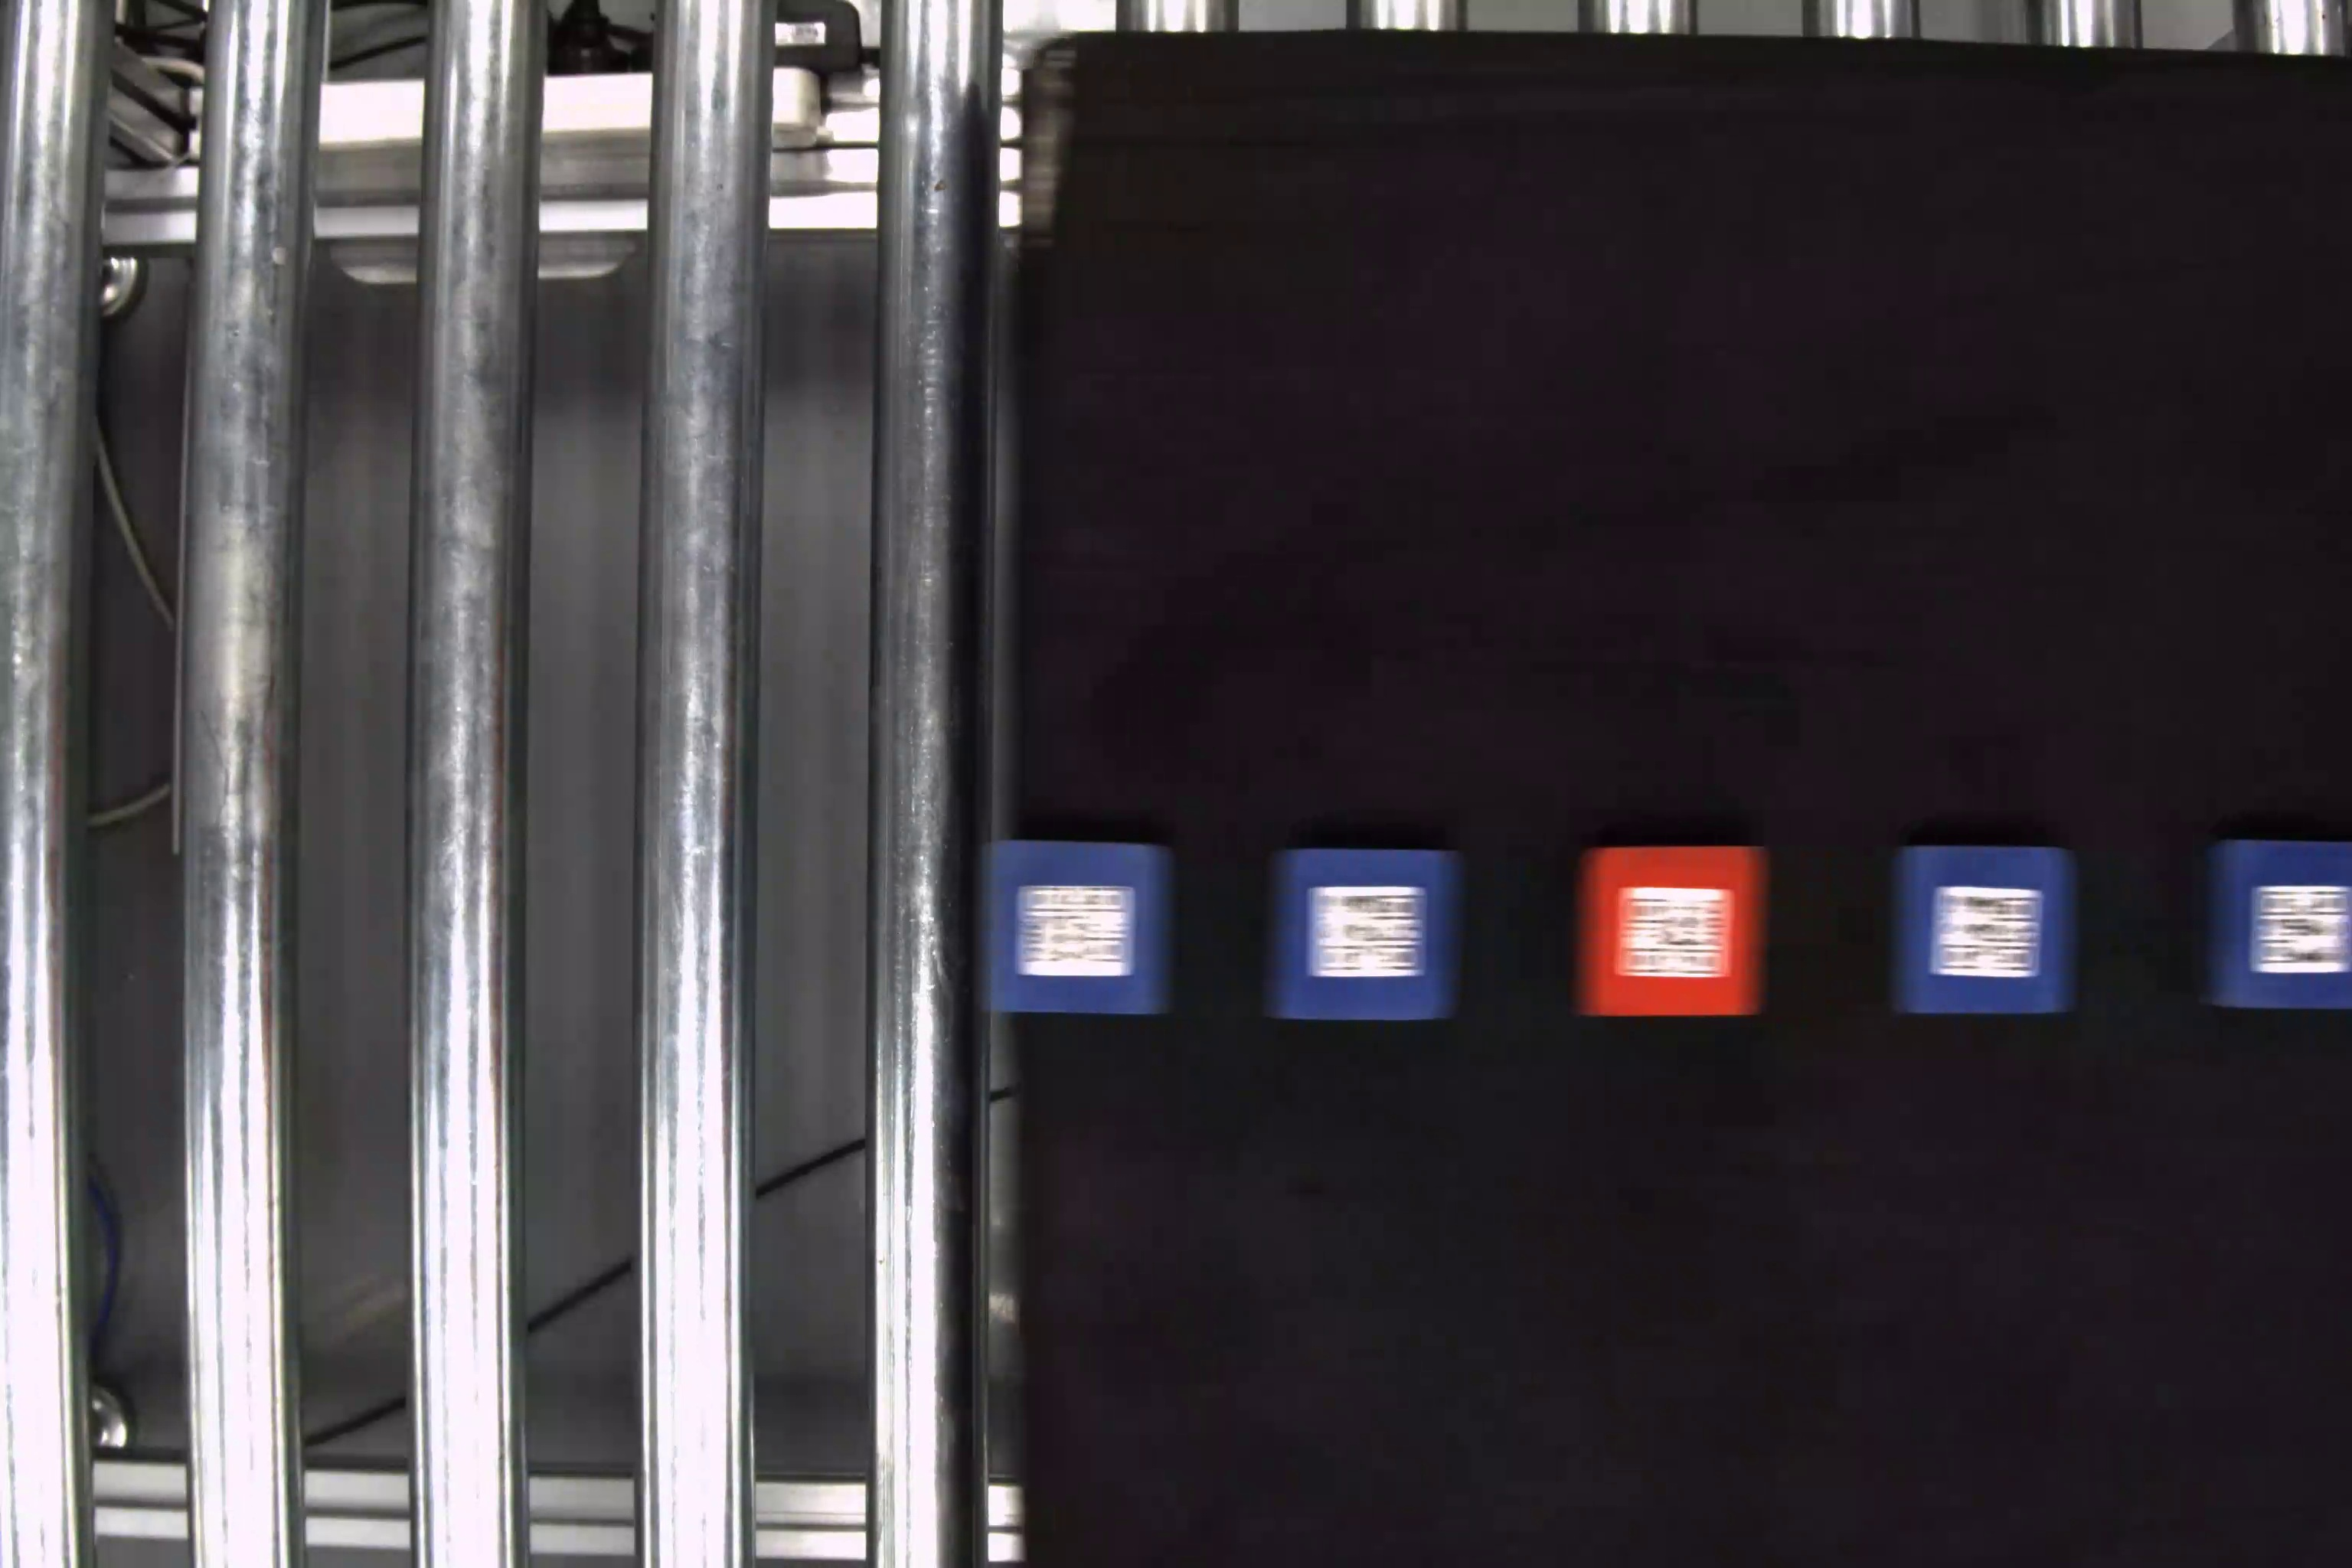wood: (982, 833, 1172, 1022), (1263, 843, 1463, 1022), (1890, 836, 2082, 1017), (1571, 847, 1776, 1015), (2210, 840, 2352, 1015)
